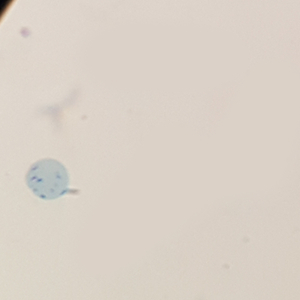aggregate reticulocyte: (23, 157, 72, 202)
